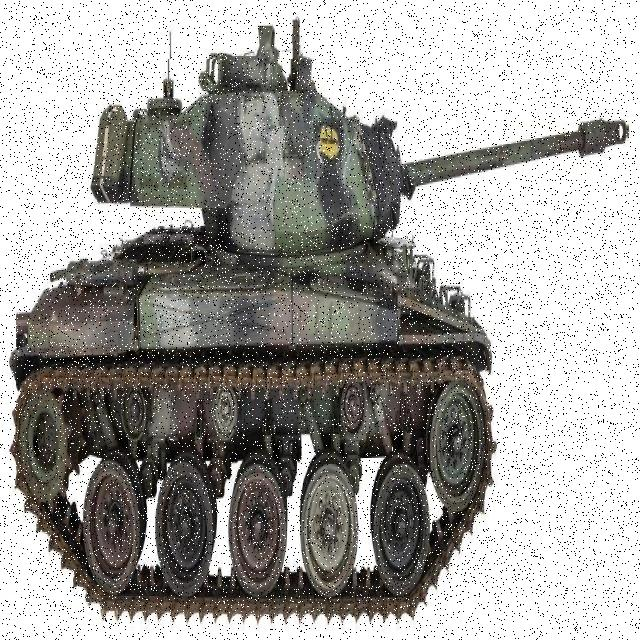MIL_MBT: (17, 59, 627, 602)
